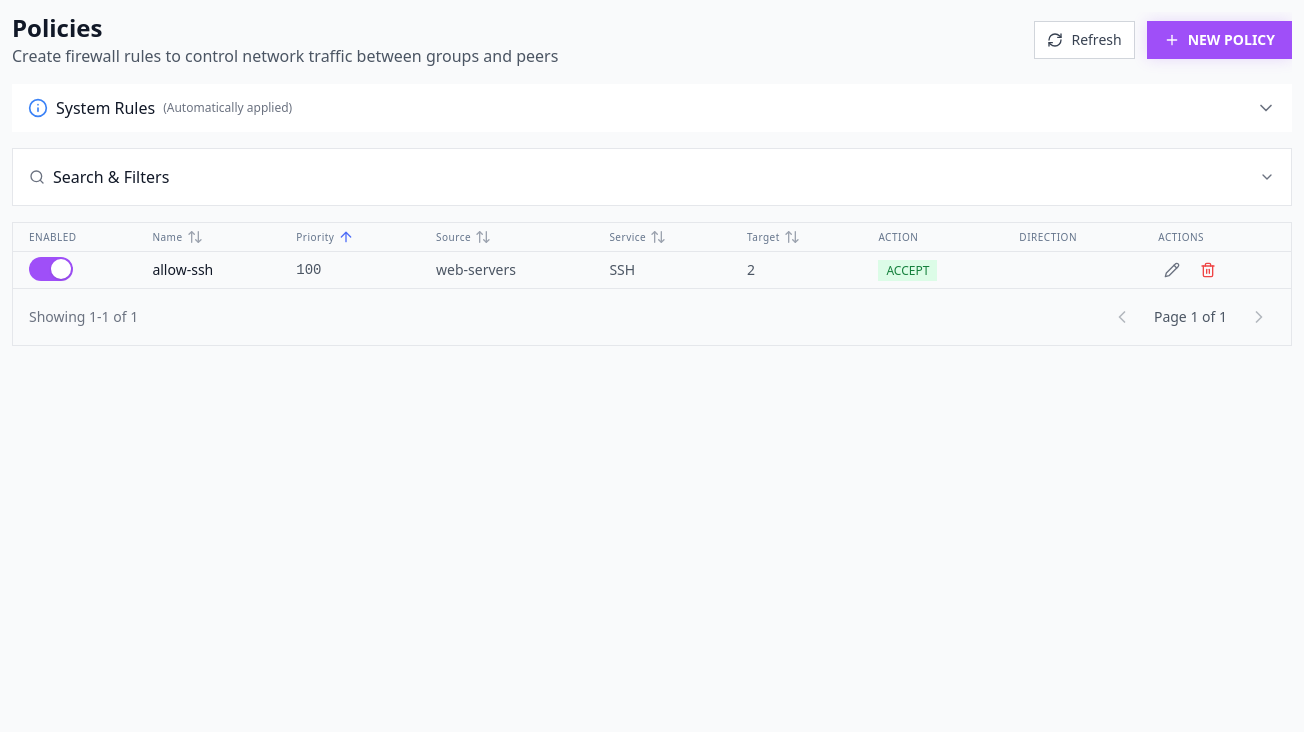
Test: Policies Page › can expand system rules
Click the text "System Rules" at {"x": 106, "y": 108}, box [56,96,155,120]
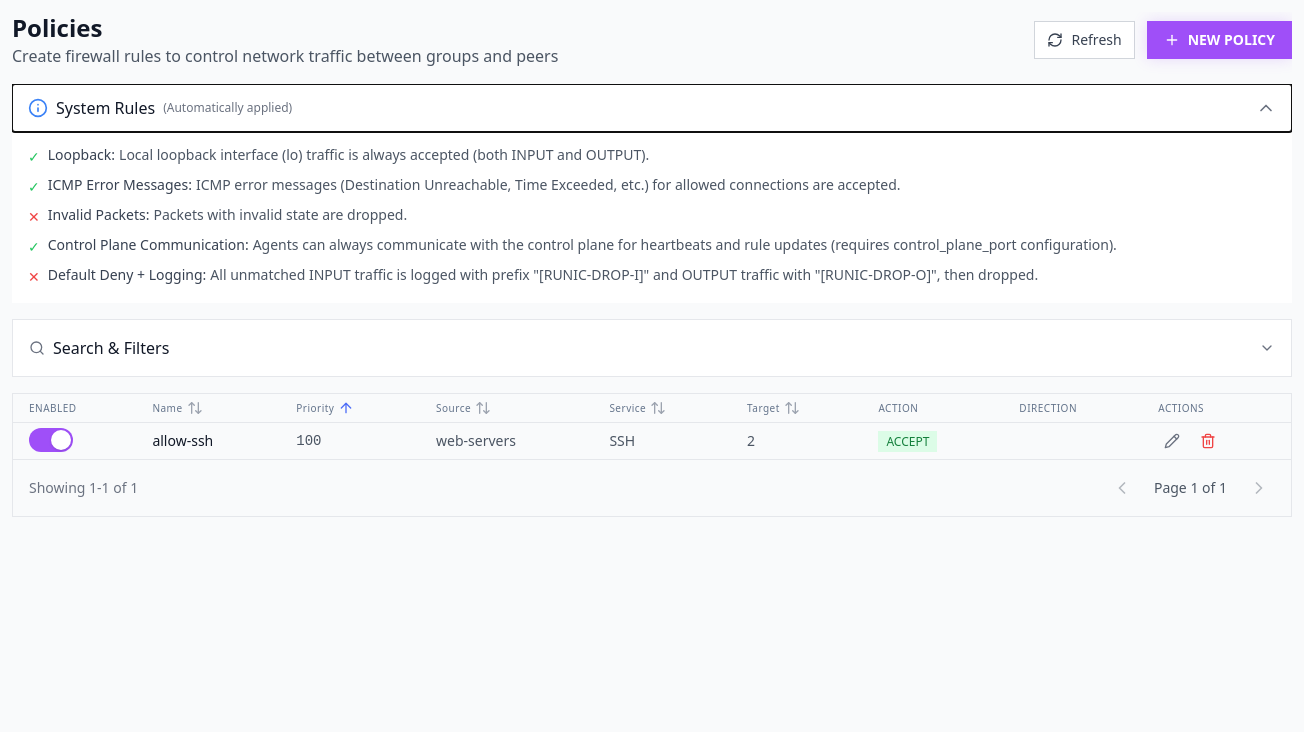
Check: the text "Loopback:" is shown, box [48,145,115,164]
